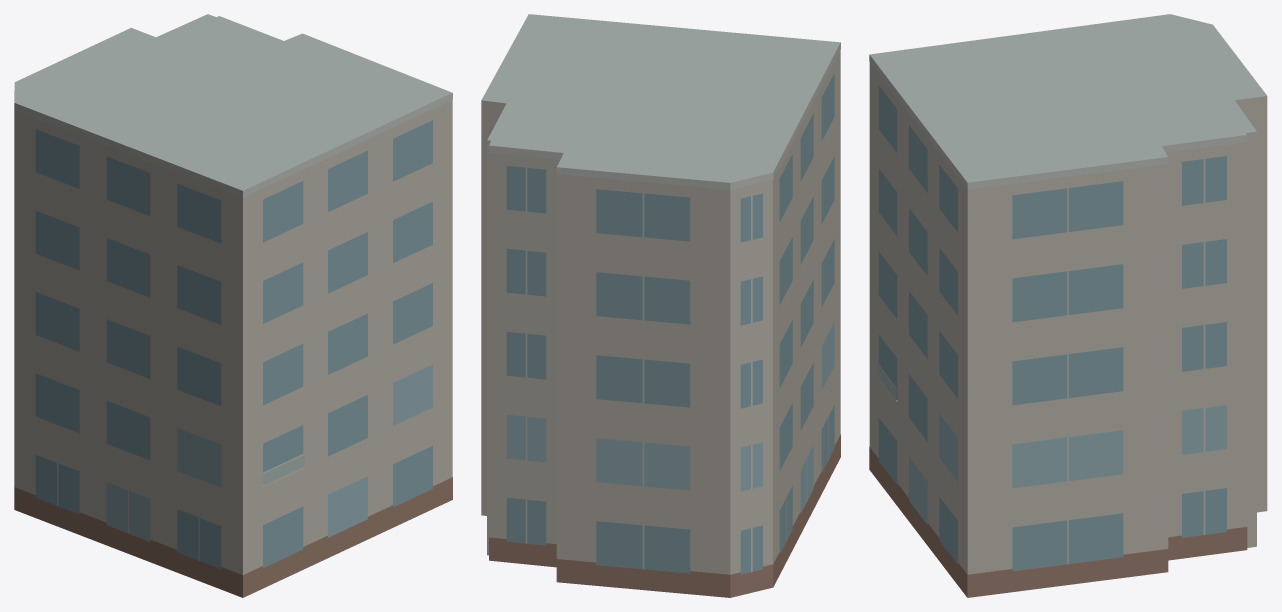
The model's file is survey-upis-32525236.glb.
3 renders of one model, left to right at view 1: azimuth 30°, elevation 25°; view 2: azimuth 150°, elevation 25°; view 3: azimuth 270°, elevation 25°, orthographic.
Visible parts, largest first — view 1: survey-upis-32525236.tmp; view 2: survey-upis-32525236.tmp; view 3: survey-upis-32525236.tmp.
Part boxes in pixels (left/top/right/bottom): survey-upis-32525236.tmp: left=14, top=14, right=452, bottom=597; survey-upis-32525236.tmp: left=481, top=14, right=840, bottom=597; survey-upis-32525236.tmp: left=869, top=14, right=1267, bottom=597.
Bounding box in the file's own units: 12.39 × 14.2 × 12.35.
